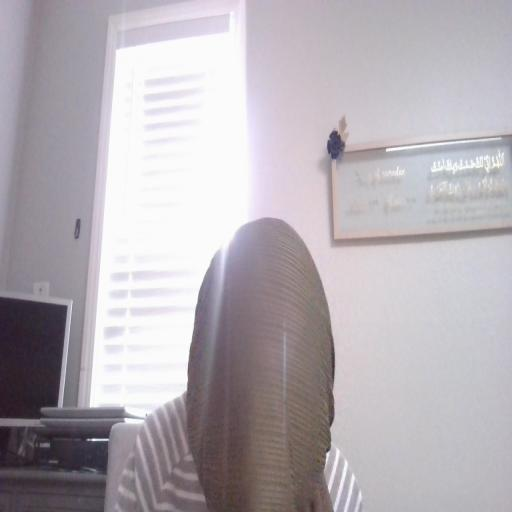lookingdownatphone: (185, 212, 342, 512)
